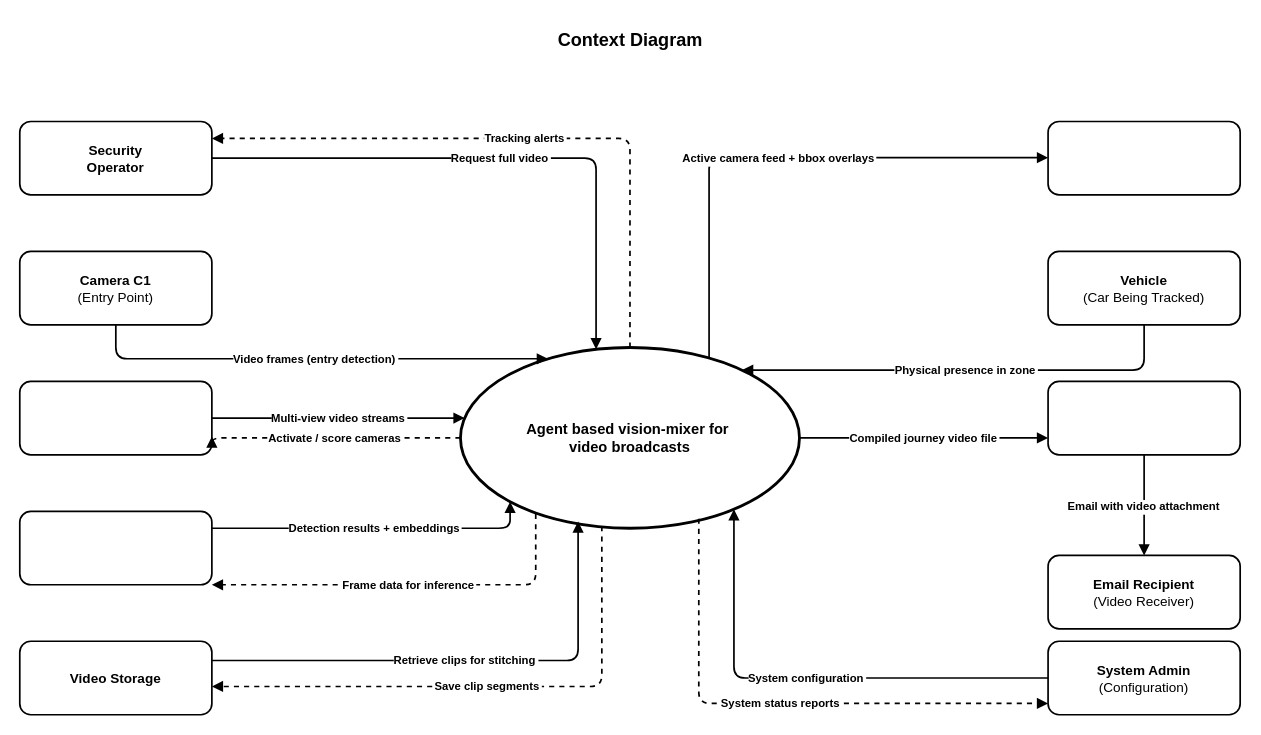
Some shapes in this 1261 by 735 pixel diagram are drawn without their labels. Each missing label, with the centre of its shape:
Camera C2…Cn (Network Cameras): point 115,417
Email Service: point 1144,417
Live View Dashboard: point 1144,157
ReID: point 115,547
